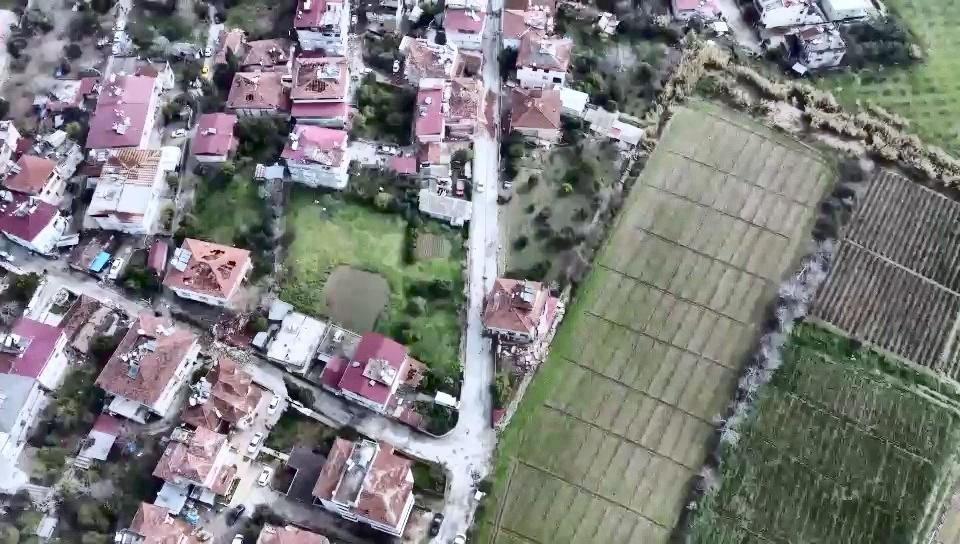kapali: (120, 297, 270, 383), (473, 76, 501, 155)
